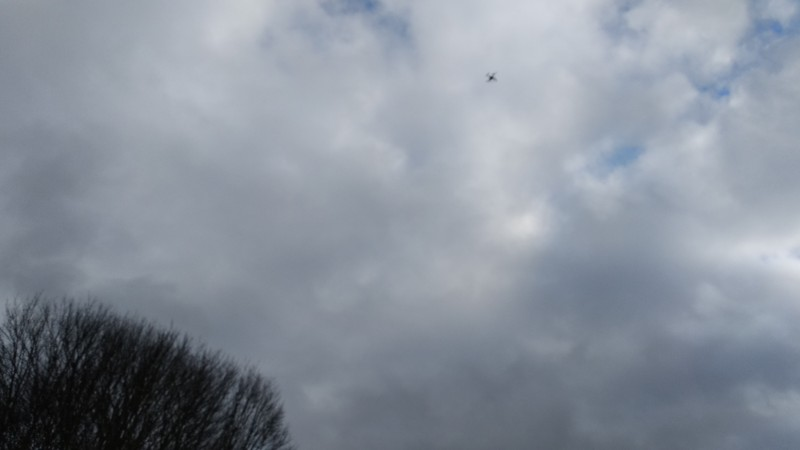drone: (487, 72, 496, 81)
